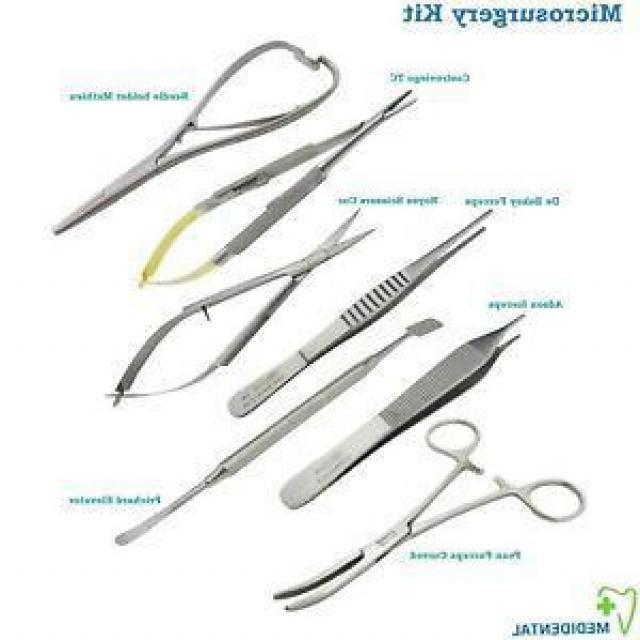Castroviejo: (130, 85, 423, 294), (46, 38, 344, 242)
Forceps: (224, 206, 497, 422), (275, 308, 529, 514)
Hemostat: (269, 418, 589, 612)
Potts: (100, 203, 378, 411)
